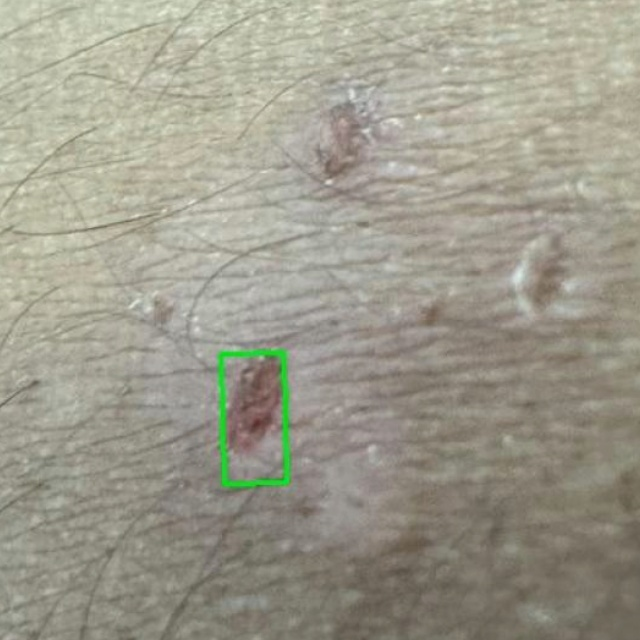Scabies: (222, 353, 287, 484)
